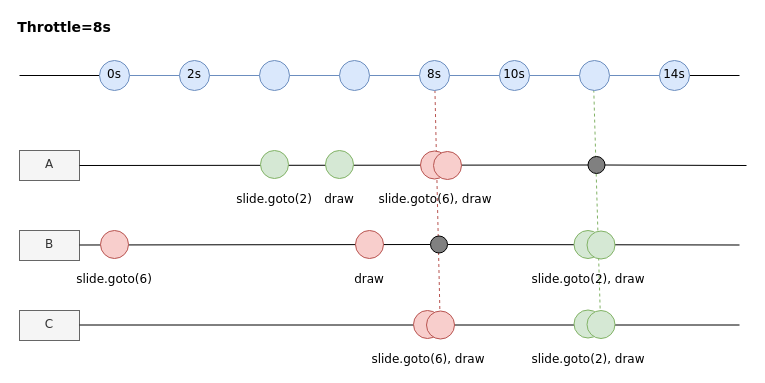
The diagram is 765 pixels wide and 383 high, and some of its shapes have lost their labels. The shapes that lost their labels are listed below. From the top down, each one's centre as x and y in pixels, then its label:
At (x=274, y=75): "4s".
At (x=354, y=75): "6s".
At (x=594, y=75): "12s".
